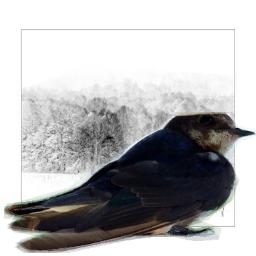Swallow: (4, 112, 256, 253)
